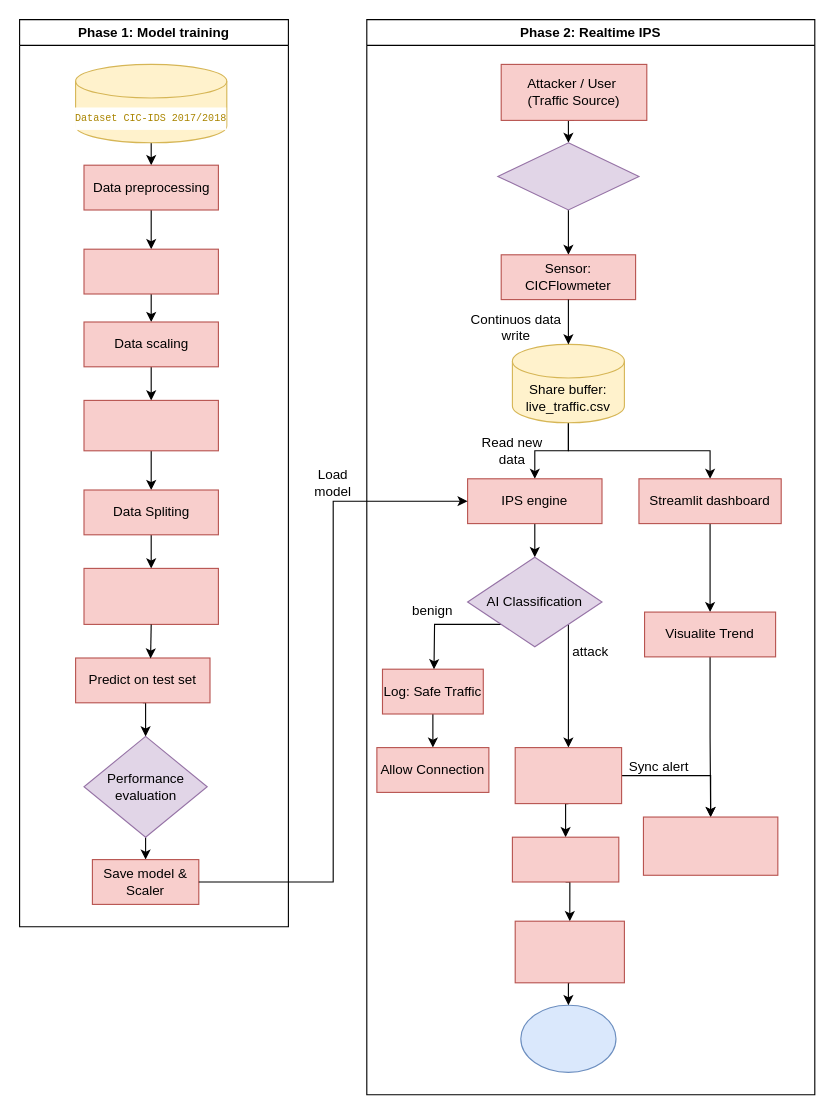
Some shapes in this 834 by 1114 pixel diagram are drawn without their labels. The shapes that lost their labels are listed below. From the top down, each one's box as (x1, y1, x2, y2) in pixels, then its label:
(497, 142, 639, 210): VMnet8 Network
(83, 248, 218, 294): Label encoding
(83, 399, 218, 451): Feature selection
(83, 567, 218, 624): CNN-LSTM
(514, 746, 622, 804): Console alert & log
(511, 836, 619, 882): Active respone module
(642, 816, 778, 875): Update Status (Critical / Safe)
(514, 920, 624, 983): Excecute command: nestsh advfirewall
(520, 1004, 616, 1072): Connection Blocked
